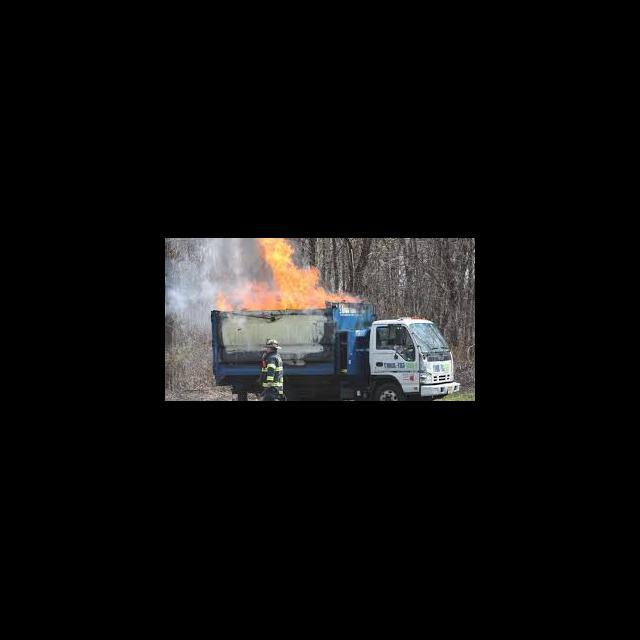Fire: (278, 268, 358, 310), (258, 238, 295, 274), (246, 288, 277, 314), (214, 293, 234, 311)
Smoke: (166, 238, 210, 332), (210, 239, 258, 291)
